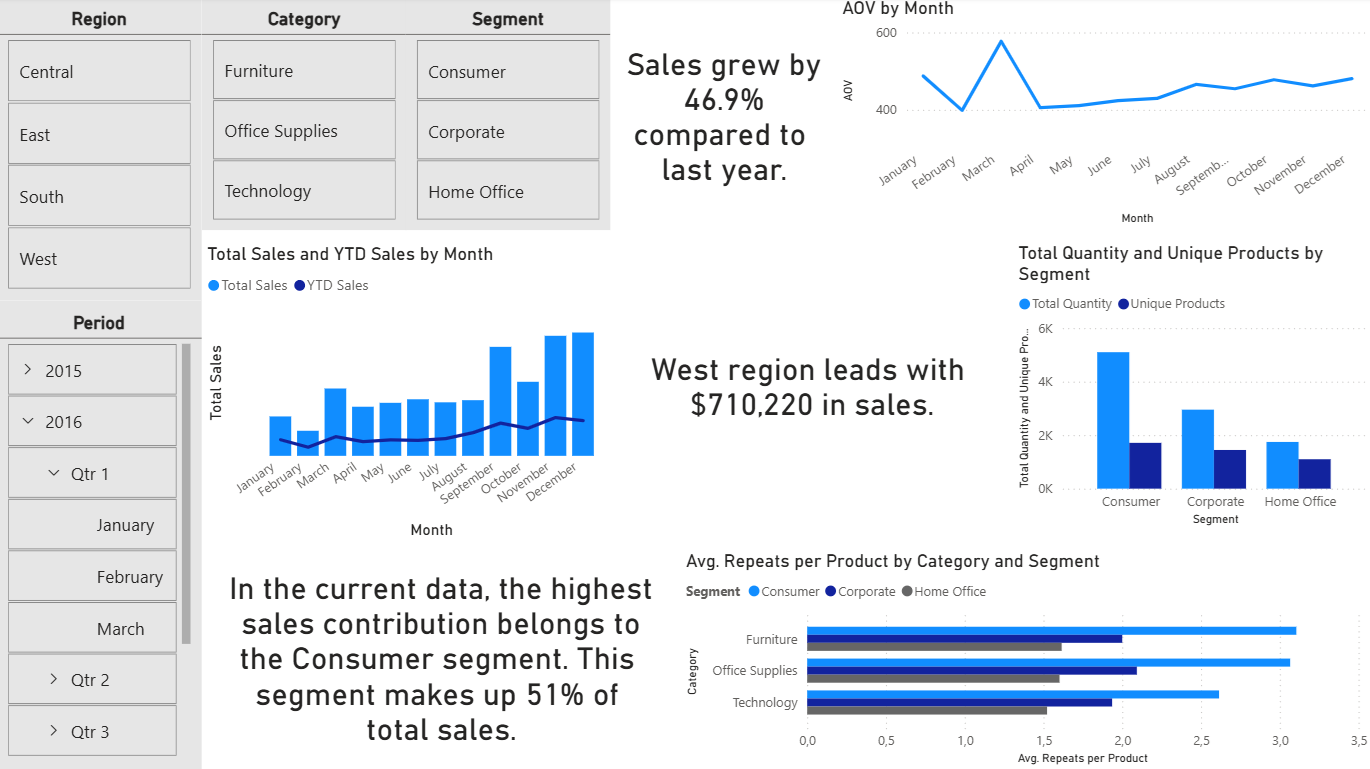

The dashboard page shown, as its layout file describes it:
{"tool":"powerbi","page":{"name":"Executive Summary","canvas":[1280,720],"ordinal":0},"visuals":[{"type":"listSlicer","title":"Period","fields":{"Values":["Date.Date.Variation.Date Hierarchy.Year","Date.Date.Variation.Date Hierarchy.Quarter","Date.Date.Variation.Date Hierarchy.Month"]},"box":[0,282.1,190,438.1],"z":0},{"type":"listSlicer","fields":{"Values":["superstoreDB.Category"]},"box":[190.3,0,190.3,216.7],"z":1000},{"type":"listSlicer","fields":{"Values":["superstoreDB.Segment"]},"box":[380.6,0,190.3,216.7],"z":2000},{"type":"listSlicer","fields":{"Values":["superstoreDB.Region"]},"box":[0,0,190,282.1],"z":3000},{"type":"clusteredColumnChart","fields":{"Category":["superstoreDB.Segment"],"Y":["superstoreDB.Total Quantity (by Row Count)","superstoreDB.Unique Products"]},"box":[945.1,216.9,335.2,284.5],"z":4000},{"type":"lineClusteredColumnComboChart","fields":{"Category":["superstore_db.Ship Date.Variation.Date Hierarchy.Month"],"Y":["superstoreDB.Total Sales"],"Y2":["superstoreDB.YTD Sales"]},"box":[190.7,218.6,380.2,295.3],"z":5000},{"type":"card","fields":{"Values":["superstore_db.Top Segment Insight"]},"box":[190.1,514.1,445.1,205.6],"z":6000},{"type":"lineChart","fields":{"Y":["superstore_db.AOV"],"Category":["superstore_db.Ship Date.Variation.Date Hierarchy.Month"]},"box":[781.7,0,498.6,216.9],"z":7000},{"type":"clusteredBarChart","fields":{"Y":["superstore_db.Avg. Repeats per Product"],"Category":["superstore_db.Category"],"Series":["superstore_db.Segment"]},"box":[636.6,514.1,643.7,205.6],"z":8000},{"type":"card","fields":{"Values":["superstore_db.Sales YoY Insight"]},"box":[570.4,0,211.3,216.9],"z":9000},{"type":"card","fields":{"Values":["superstore_db.Top Region Insight"]},"box":[570.4,218.3,374.6,283.1],"z":10000}]}

Visuals, with their boxes in screenshot pixels (x1, y1, x2, y2), scaled from the page's 1280x720 canvas onto the 1370x769 screenshot:
"Period" listSlicer: <region>0, 301, 203, 768</region>
listSlicer - superstoreDB.Category: <region>204, 0, 407, 231</region>
listSlicer - superstoreDB.Segment: <region>407, 0, 611, 231</region>
listSlicer - superstoreDB.Region: <region>0, 0, 203, 301</region>
clusteredColumnChart - superstoreDB.Segment x superstoreDB.Total Quantity (by Row Count): <region>1012, 232, 1369, 536</region>
lineClusteredColumnComboChart - superstore_db.Ship Date.Variation.Date Hierarchy.Month x superstoreDB.Total Sales: <region>204, 233, 611, 549</region>
card - superstore_db.Top Segment Insight: <region>203, 549, 680, 768</region>
lineChart - superstore_db.AOV x superstore_db.Ship Date.Variation.Date Hierarchy.Month: <region>837, 0, 1369, 232</region>
clusteredBarChart - superstore_db.Avg. Repeats per Product x superstore_db.Category: <region>681, 549, 1369, 768</region>
card - superstore_db.Sales YoY Insight: <region>611, 0, 837, 232</region>
card - superstore_db.Top Region Insight: <region>611, 233, 1011, 536</region>
